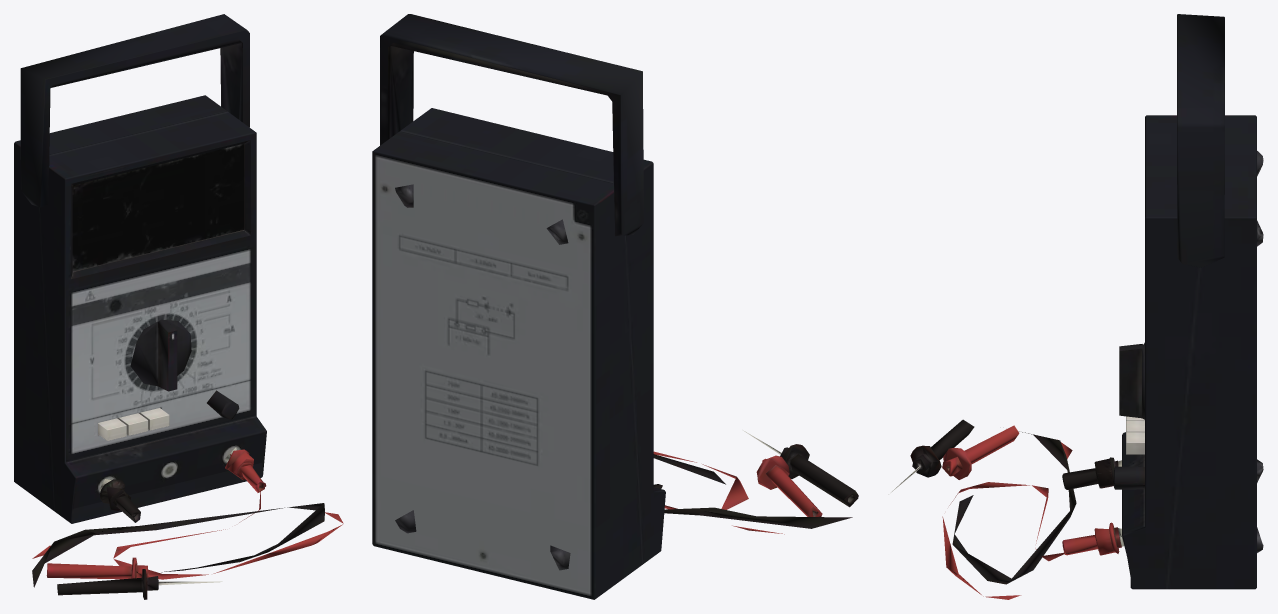
File: retro_multimeter.glb
3 renders of one model, left to right at view 1: azimuth 30°, elevation 25°; view 2: azimuth 150°, elevation 25°; view 3: azimuth 270°, elevation 25°, orthographic. The views are drawn at different scales.
Visible parts, largest first — view 1: retro_multimeter_LOD0; view 2: retro_multimeter_LOD0; view 3: retro_multimeter_LOD0.
Part boxes in pixels (x1,y1,x2,y2): retro_multimeter_LOD0: (14, 14, 343, 599); retro_multimeter_LOD0: (372, 14, 858, 599); retro_multimeter_LOD0: (888, 14, 1263, 599).
Bounding box in the file's own units: 0.2106 × 0.2784 × 0.2012.
Materials: 2 (2 with a texture image).
